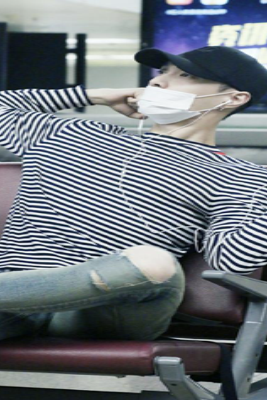mask_weared_incorrect: (137, 67, 223, 121)
